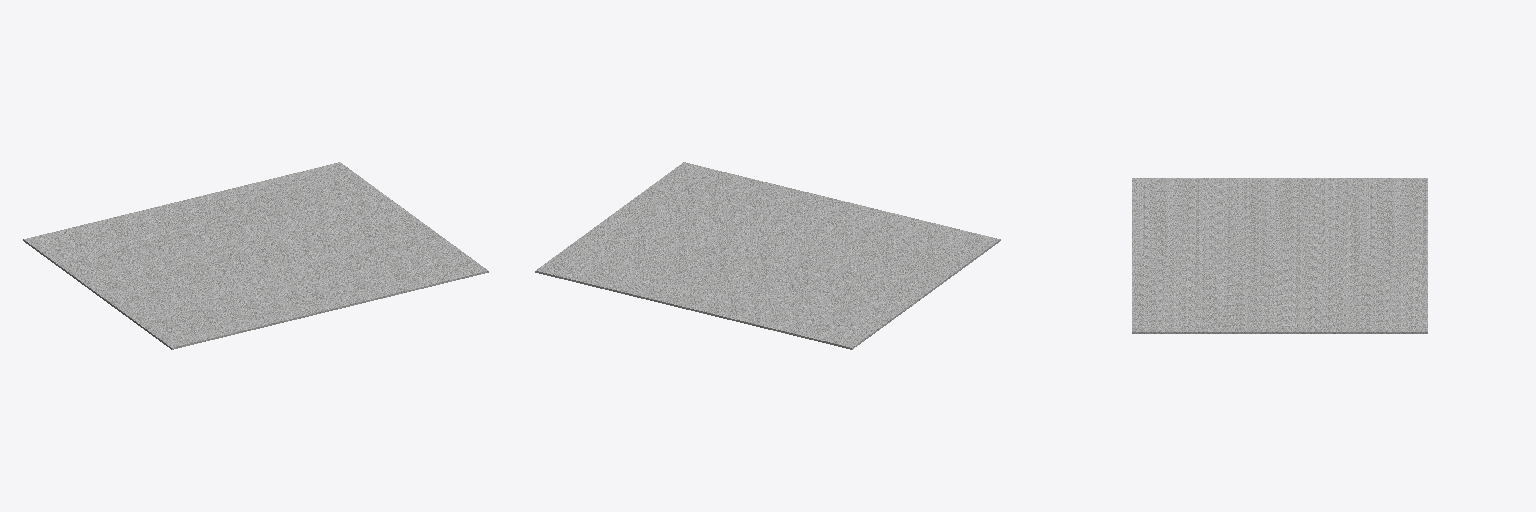
The picture shows the model from 3 angles: view 1: azimuth 30°, elevation 25°; view 2: azimuth 150°, elevation 25°; view 3: azimuth 270°, elevation 25°; orthographic projection.
Parts seen in each view (by area): view 1: Cube.002; view 2: Cube.002; view 3: Cube.002.
Part boxes in pixels (x1,y1,x2,y2): Cube.002: (23, 162, 488, 349); Cube.002: (535, 162, 1000, 349); Cube.002: (1132, 178, 1427, 333).
Size of the model in its own units: 769 by 4.5 by 624.
1 materials, 1 textured.